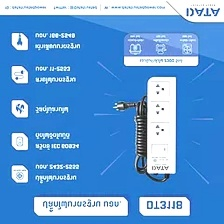three_eye_plug: (142, 73, 178, 176)
